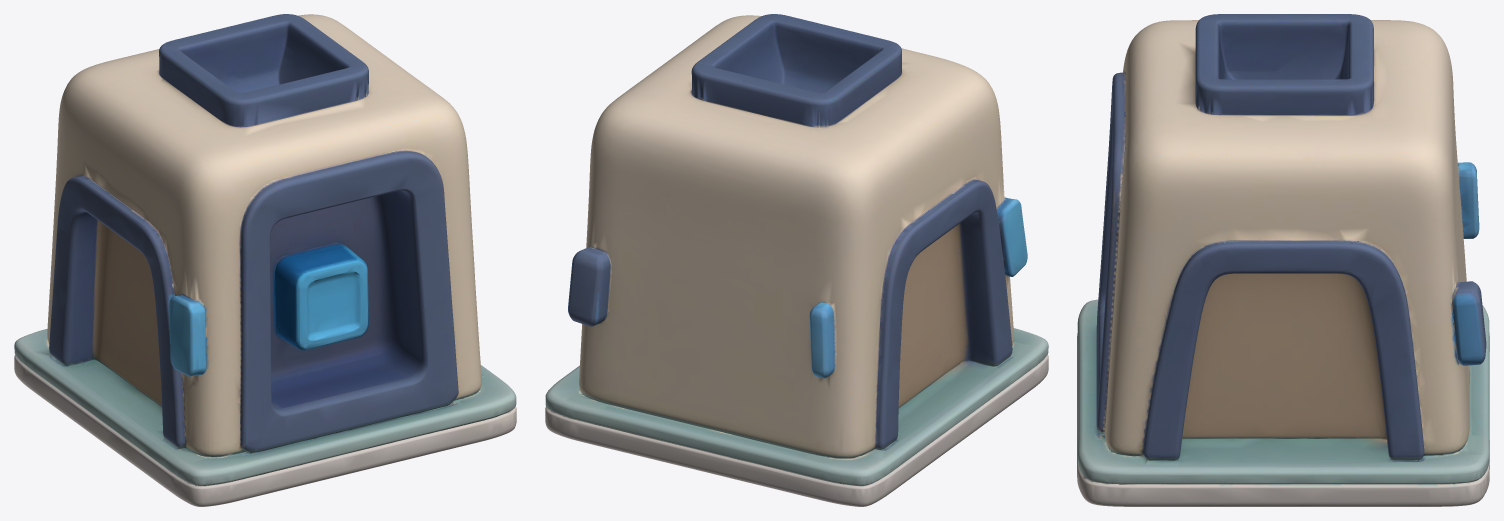
The model's file is cube-press-housing.glb.
3 views of the same model, side by side, from view 1: azimuth 30°, elevation 25°; view 2: azimuth 150°, elevation 25°; view 3: azimuth 270°, elevation 25° (orthographic). The views are drawn at different scales.
Visible parts, largest first — view 1: cube-press-housing; view 2: cube-press-housing; view 3: cube-press-housing.
Boxes of the visible parts, box(x1,y1,x2,y2) form: cube-press-housing: box(14, 14, 516, 506); cube-press-housing: box(545, 14, 1048, 506); cube-press-housing: box(1077, 14, 1489, 506).
Size of the model in its own units: 1.12 by 1.11 by 1.12.
Materials: 1 (1 with a texture image).
